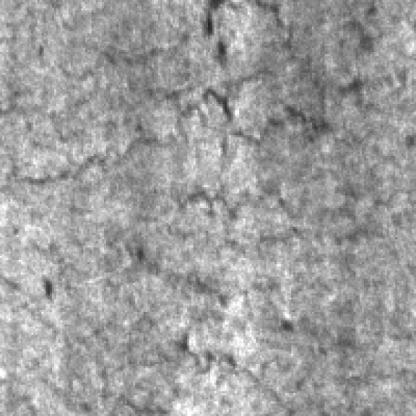crazing: (11, 0, 344, 216), (140, 100, 402, 266), (60, 249, 358, 389)
